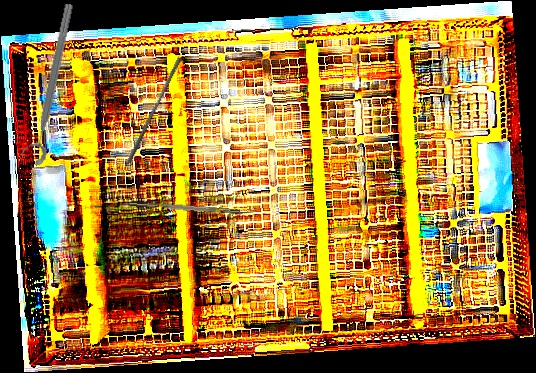Chopper: (130, 194, 259, 218)
Fixation Ring: (17, 0, 79, 167)
Pusher: (126, 55, 183, 166)
